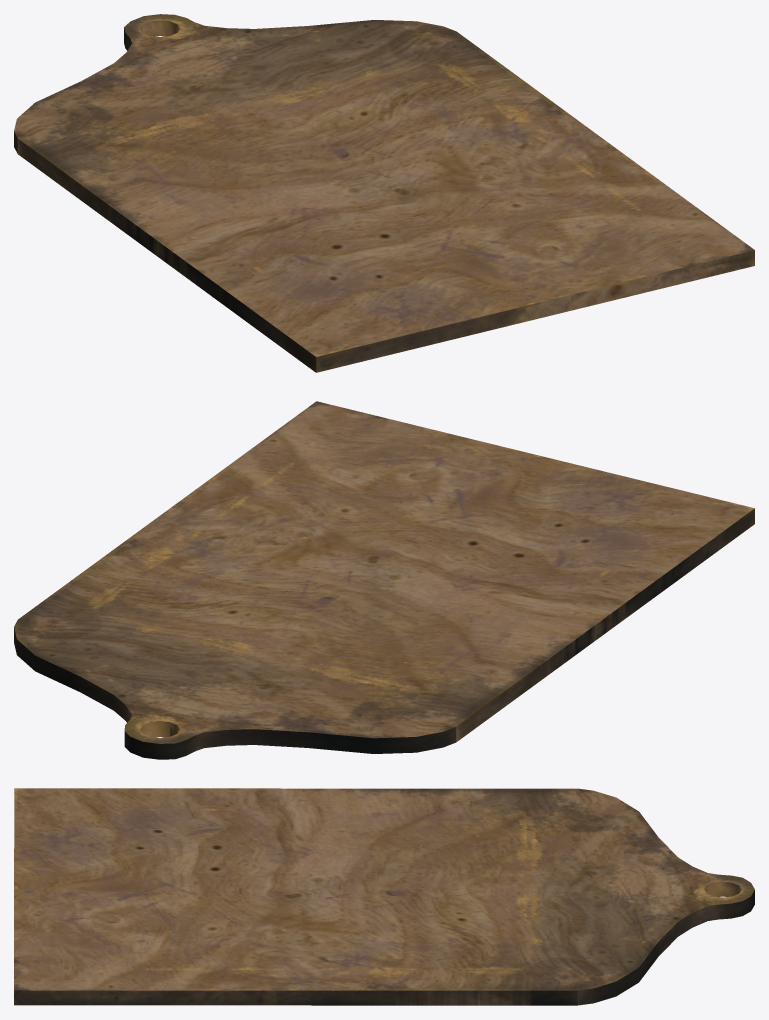
Rendered from Prop_Kitchen_Wood_x1.fbx.
The picture shows the model from 3 angles, top to bottom: view 1: azimuth 30°, elevation 25°; view 2: azimuth 150°, elevation 25°; view 3: azimuth 270°, elevation 25°; orthographic projection. The views are drawn at different scales.
Visible parts, largest first — view 1: Prop_Kitchen_Wood_x1; view 2: Prop_Kitchen_Wood_x1; view 3: Prop_Kitchen_Wood_x1.
Part boxes in pixels (bbox=[...]): Prop_Kitchen_Wood_x1: bbox=[14, 14, 754, 372]; Prop_Kitchen_Wood_x1: bbox=[14, 401, 754, 759]; Prop_Kitchen_Wood_x1: bbox=[14, 788, 754, 1005].
Bounding box in the file's own units: 27.99 × 0.9645 × 43.36.
